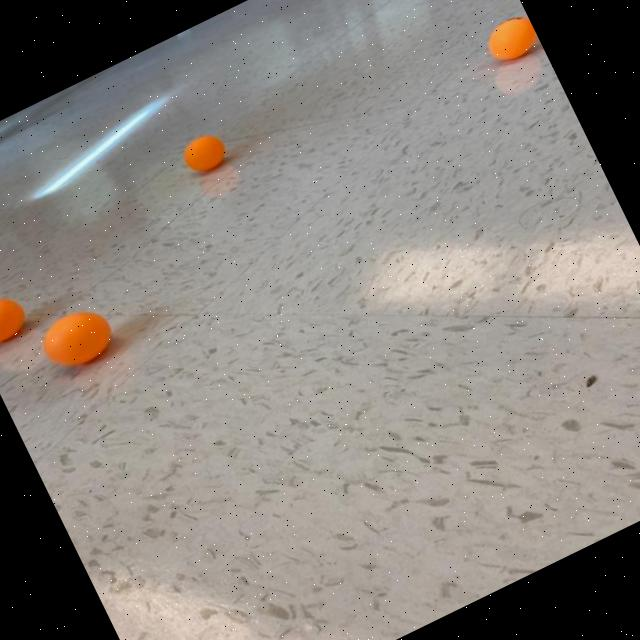ping-pong-ball: (32, 297, 122, 378), (476, 7, 542, 68), (175, 126, 234, 182), (0, 284, 34, 353)
